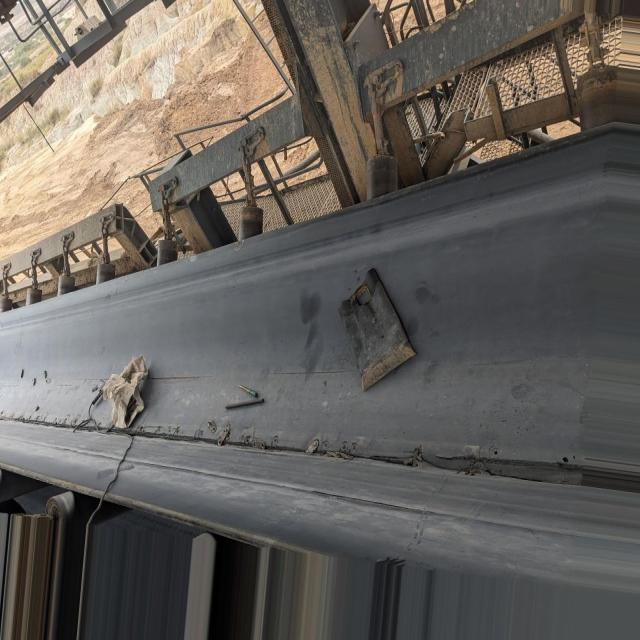Other Objects: (336, 263, 419, 396), (84, 340, 152, 423), (220, 370, 275, 421), (96, 436, 140, 496)
Roller: (49, 488, 96, 516), (233, 201, 263, 244), (369, 159, 400, 199), (4, 473, 44, 501), (154, 236, 181, 261), (94, 259, 120, 282), (58, 270, 78, 293), (25, 284, 46, 301), (0, 294, 15, 309)
Tear: (9, 412, 587, 490)
